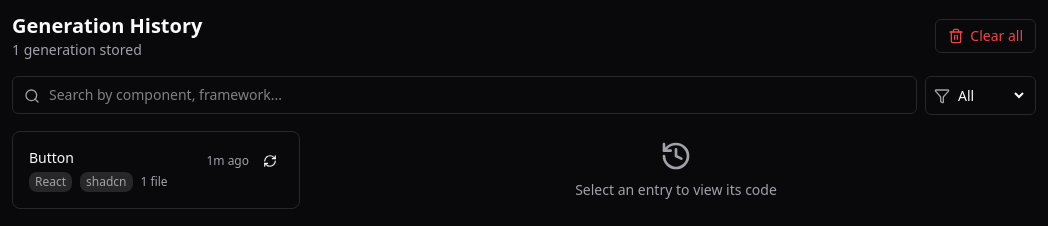
HistoryPage › clears filters from no-results message
The image size is (1048, 226).
Type "zzz" into the field with placeholder "Search by component, framework..." at (464, 95), box [12, 76, 917, 114]
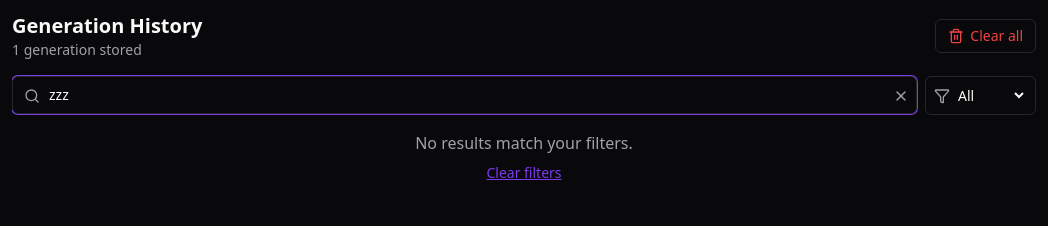
Click the button "Clear filters" at (524, 173), box [486, 163, 562, 183]
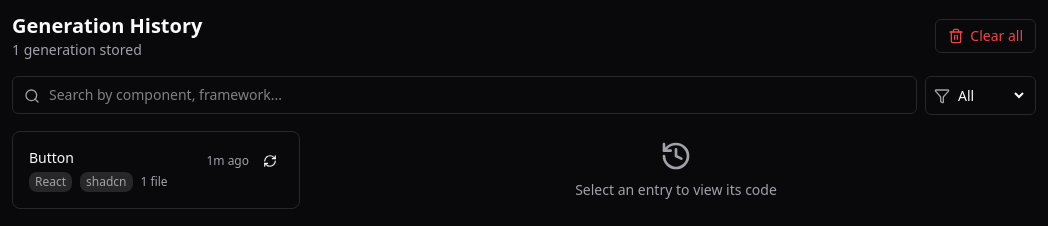
Now the text "Button" is shown, box [29, 148, 74, 167]
